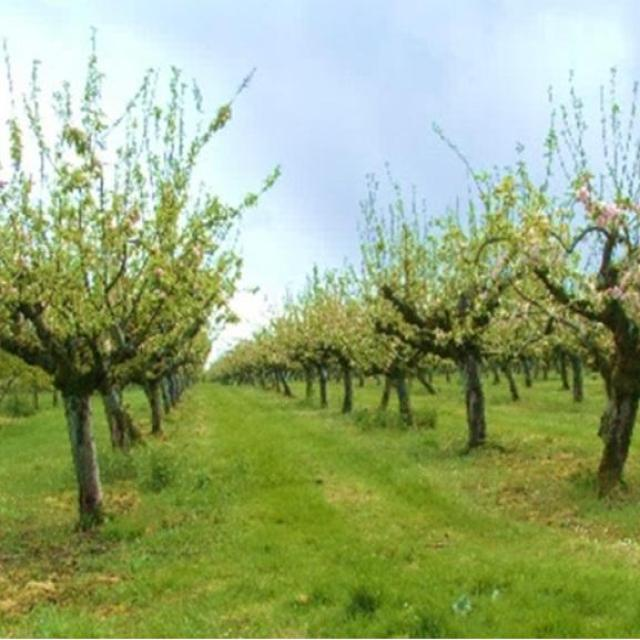row: (76, 382, 636, 635)
